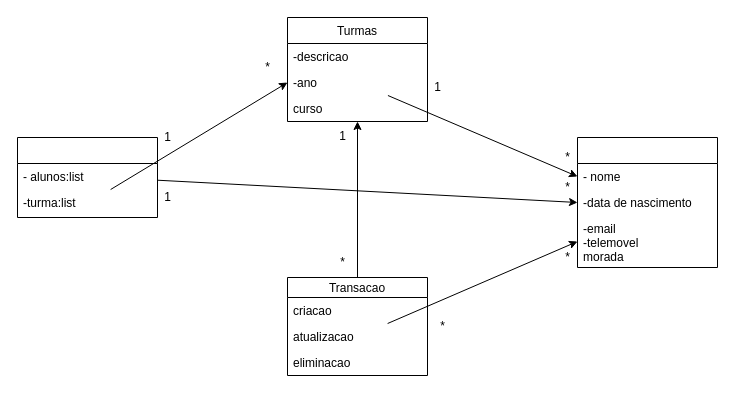
The diagram is 735 pixels wide and 396 high, and some of its shapes have lost their labels. Here are the shapes that lost their labels. From the top down, the box of each, then its label:
(16, 136, 158, 218): Escola
(576, 136, 718, 268): Alunos
